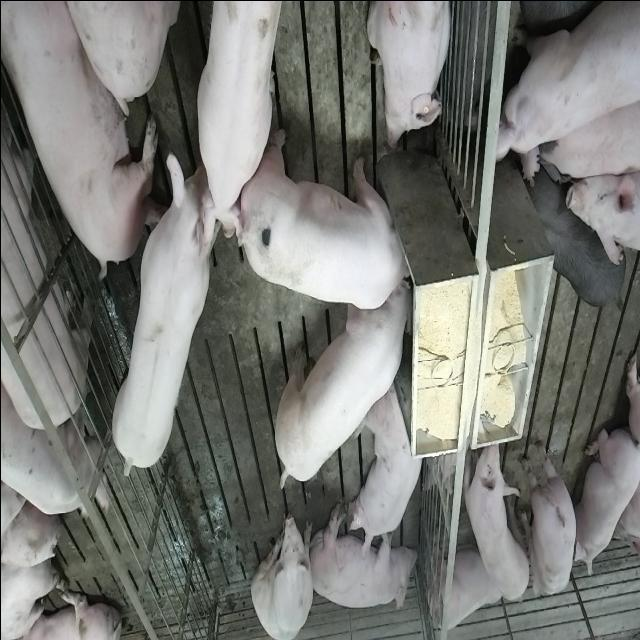Feeding: (243, 127, 420, 309), (270, 279, 411, 495)
Lateral_lying: (307, 499, 417, 612)
Sitting: (250, 503, 314, 638)
Standing: (0, 0, 93, 442), (110, 154, 221, 484), (494, 0, 638, 182), (189, 0, 282, 242), (0, 374, 109, 518), (526, 171, 627, 309), (460, 432, 530, 601), (538, 87, 640, 189), (528, 438, 579, 602)
Sternal_lying: (351, 380, 428, 554), (366, 0, 454, 150), (574, 424, 638, 578), (426, 540, 511, 636)
